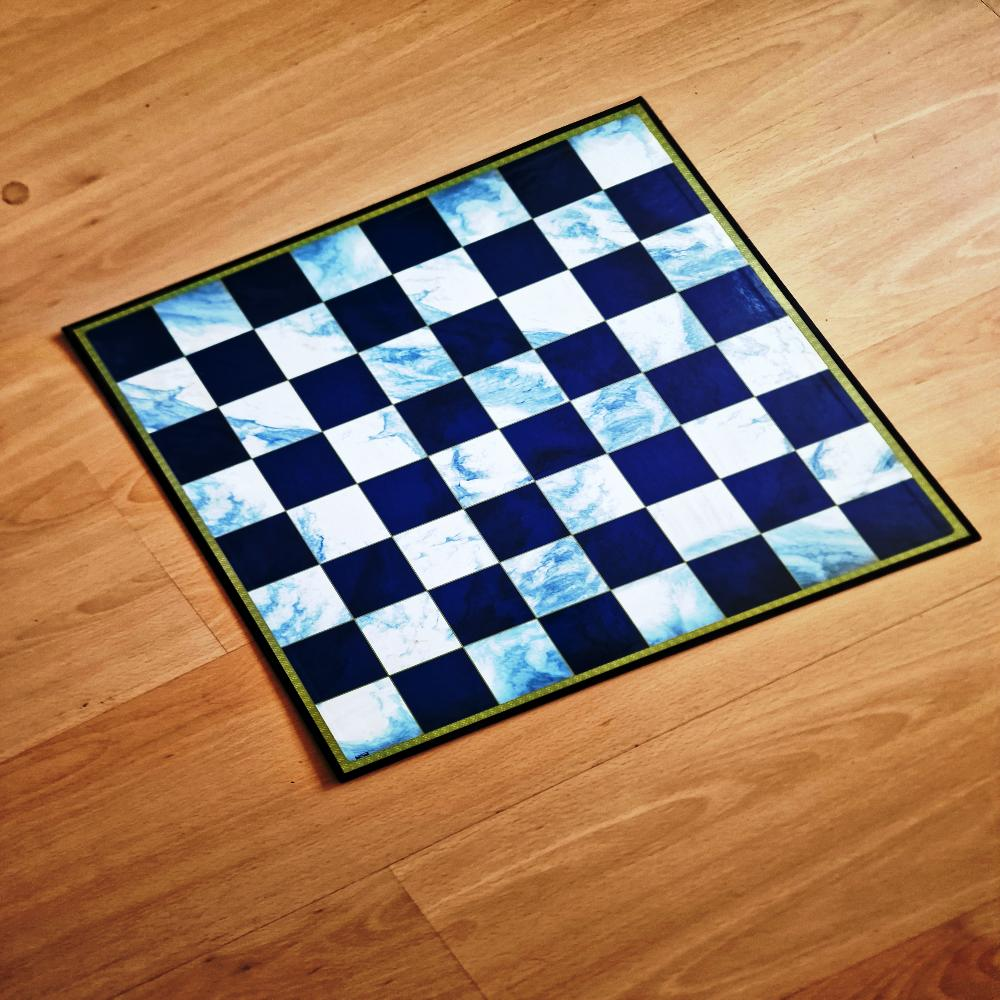chessfield: (314, 676, 432, 777), (609, 563, 735, 656), (465, 620, 585, 716), (836, 478, 964, 566), (760, 508, 884, 597), (565, 97, 679, 190), (538, 590, 652, 678), (350, 590, 464, 678), (388, 651, 500, 740), (681, 399, 799, 483), (640, 482, 757, 566), (685, 534, 802, 618), (244, 562, 356, 649), (799, 425, 914, 509), (497, 534, 610, 619), (387, 510, 501, 594), (720, 451, 834, 532), (756, 370, 870, 451), (574, 509, 686, 591), (716, 317, 830, 397), (571, 378, 682, 460), (605, 294, 717, 375), (248, 301, 358, 383), (528, 191, 639, 272), (422, 169, 530, 252), (608, 426, 720, 506), (315, 536, 424, 618), (354, 327, 464, 408), (460, 350, 570, 431), (533, 454, 643, 535), (149, 278, 255, 362), (428, 566, 536, 648), (285, 221, 393, 303), (282, 484, 391, 565), (176, 464, 284, 545), (496, 274, 605, 354), (423, 430, 532, 510), (282, 624, 386, 707), (315, 406, 425, 484), (639, 214, 749, 292), (641, 344, 750, 422), (461, 482, 567, 562), (390, 253, 498, 331), (675, 265, 783, 343), (216, 513, 320, 593), (571, 248, 679, 325), (531, 322, 639, 399), (221, 385, 326, 463), (498, 405, 604, 482), (460, 223, 566, 300), (499, 144, 602, 223), (287, 354, 391, 432), (77, 308, 181, 386), (602, 166, 706, 243), (395, 382, 500, 458), (218, 256, 320, 334), (426, 300, 528, 378), (252, 432, 358, 507), (184, 332, 287, 409), (356, 460, 458, 537), (320, 279, 423, 355), (360, 200, 463, 275), (117, 355, 212, 434), (151, 411, 251, 486)
